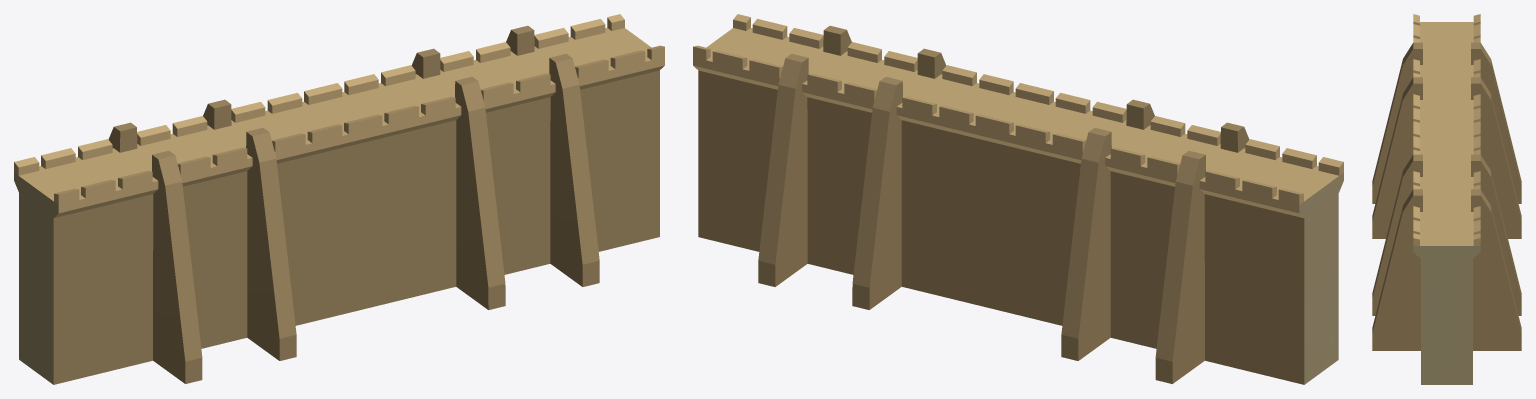
Rendered from castle_town_wall_mid.glb.
The picture shows the model from 3 angles, left to right: view 1: azimuth 30°, elevation 25°; view 2: azimuth 150°, elevation 25°; view 3: azimuth 270°, elevation 25°; orthographic projection. The views are drawn at different scales.
Visible parts, largest first — view 1: wall_mid; view 2: wall_mid; view 3: wall_mid.
Part boxes in pixels (x1,y1,x2,y2): wall_mid: (14, 14, 664, 384); wall_mid: (693, 14, 1343, 384); wall_mid: (1372, 14, 1521, 384).
Bounding box in the file's own units: 26.77 × 8.65 × 7.55.
Materials: 1 (1 with a texture image).
